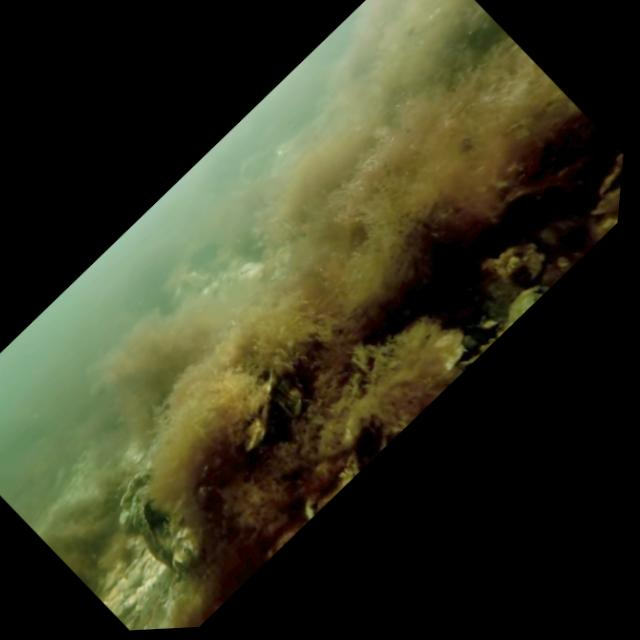Oyster-Indeterminate: (117, 464, 176, 571)
